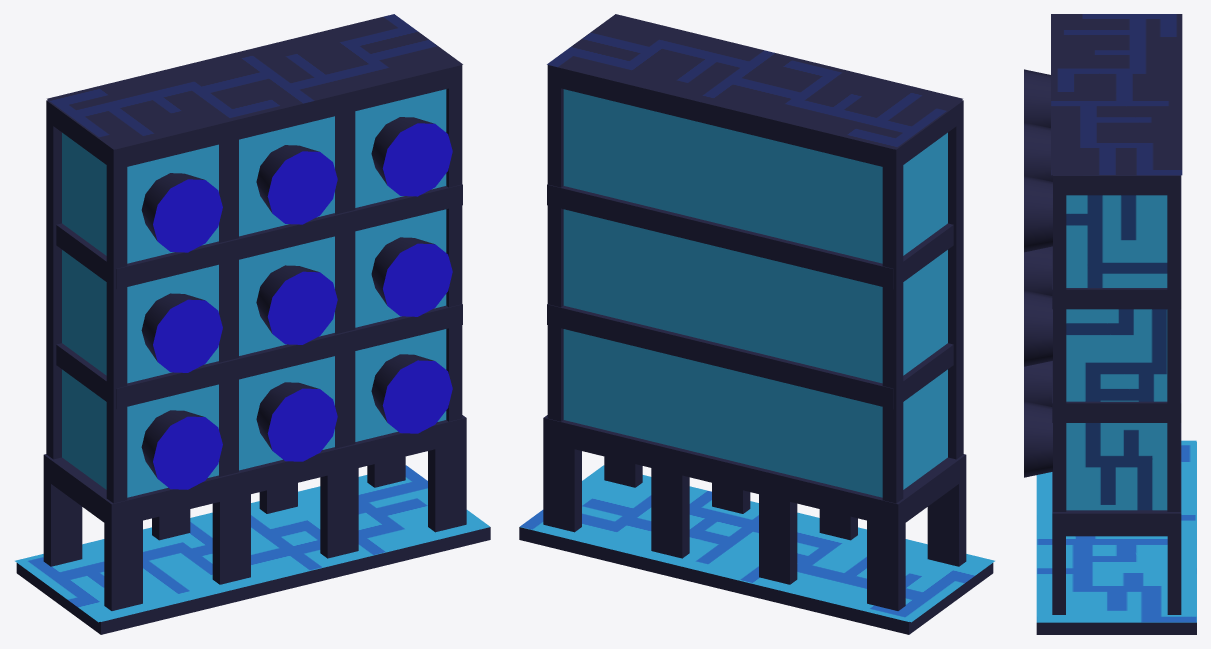
The model's file is 2026-1-8-CarbonCapture-v015.fbx.
3 views of the same model, side by side, from view 1: azimuth 30°, elevation 25°; view 2: azimuth 150°, elevation 25°; view 3: azimuth 270°, elevation 25° (orthographic). The views are drawn at different scales.
Visible parts, largest first — view 1: Cube.011, Cylinder.003, Cube.014, Cube.003, Plane, Plane.002, Cube.015, Cube.016, Cube, Plane.005, Plane.007; view 2: Cube.011, Cube.014, Cube.003, Plane, Plane.002, Cube.015, Cube.016, Cube; view 3: Plane.001, Plane, Plane.002, Cylinder.003, Cube.003, Cube.014, Cube.015, Cube.016, Cube.
Boxes of the visible parts, bbox=[...] form: Cube.011: bbox=[62, 89, 446, 497]; Cylinder.003: bbox=[141, 117, 452, 489]; Cube.014: bbox=[43, 415, 466, 610]; Cube.003: bbox=[46, 65, 462, 503]; Plane: bbox=[47, 14, 462, 149]; Plane.002: bbox=[15, 465, 489, 622]; Cube.015: bbox=[56, 184, 462, 289]; Cube.016: bbox=[56, 304, 462, 409]; Cube: bbox=[16, 527, 490, 634]; Plane.005: bbox=[335, 111, 355, 448]; Plane.007: bbox=[219, 139, 238, 476]; Cube.011: bbox=[563, 89, 947, 497]; Cube.014: bbox=[543, 415, 966, 610]; Cube.003: bbox=[547, 65, 963, 503]; Plane: bbox=[547, 14, 962, 149]; Plane.002: bbox=[520, 465, 994, 622]; Cube.015: bbox=[547, 184, 953, 289]; Cube.016: bbox=[547, 304, 953, 409]; Cube: bbox=[519, 527, 993, 634]; Plane.001: bbox=[1066, 195, 1167, 510]; Plane: bbox=[1051, 14, 1182, 175]; Plane.002: bbox=[1037, 440, 1196, 622]; Cylinder.003: bbox=[1024, 69, 1052, 477]; Cube.003: bbox=[1053, 175, 1180, 511]; Cube.014: bbox=[1052, 423, 1181, 614]; Cube.015: bbox=[1052, 175, 1181, 309]; Cube.016: bbox=[1052, 309, 1181, 422]; Cube: bbox=[1036, 442, 1196, 634].
Bounding box in the file's own units: 233 × 269 × 93.61.
6 materials, 3 textured.
